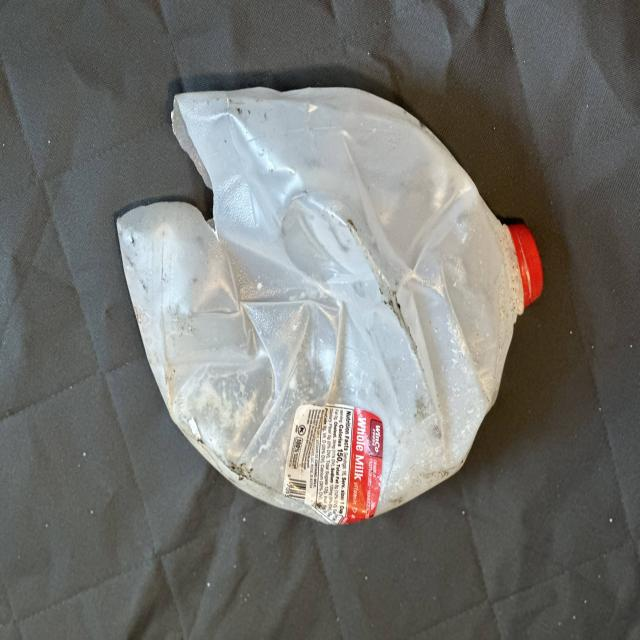milk-jug: (116, 77, 541, 524)
